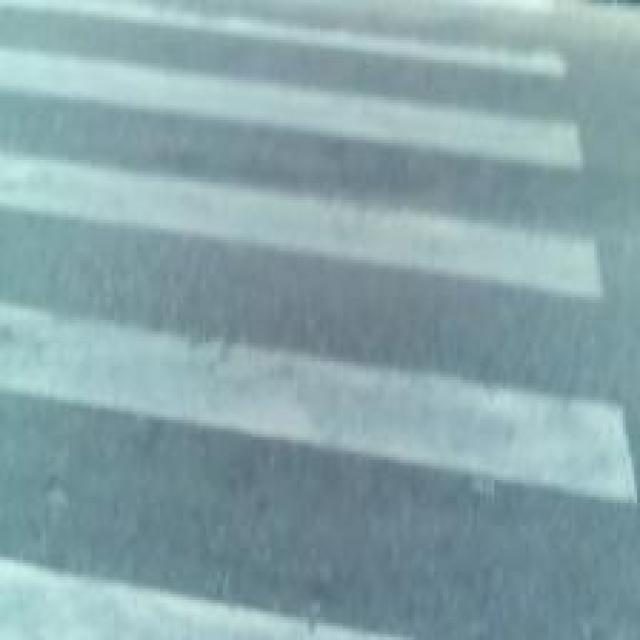walk-crossing: (31, 31, 500, 640)
